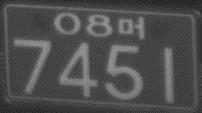0: (53, 11, 81, 35)
1: (153, 46, 185, 104)
4: (58, 41, 99, 97)
5: (104, 43, 143, 100)
7: (13, 38, 51, 94)
8: (86, 13, 112, 37)
머: (118, 15, 144, 39)
